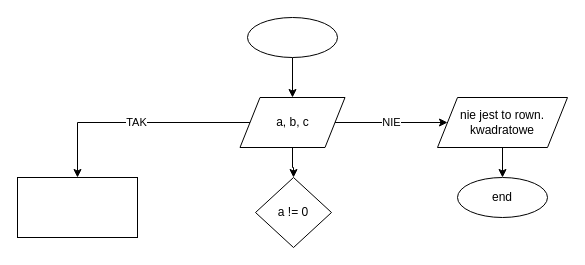
Some shapes in this 585 by 265 pixel diagram are drawn without their labels. Here are the shapes that lost their labels. From the top down, the centre of each, then its label:
pixel 292 37: start
pixel 77 207: delta = b * b - 4 * a * c
